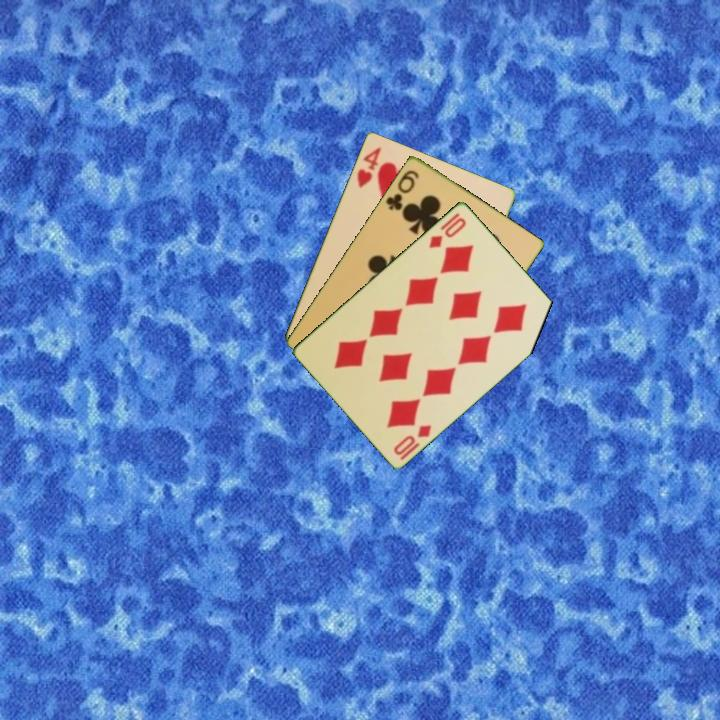10d: (425, 213, 469, 251), (390, 421, 434, 458)
4h: (353, 143, 384, 190)
6c: (382, 166, 422, 213)
